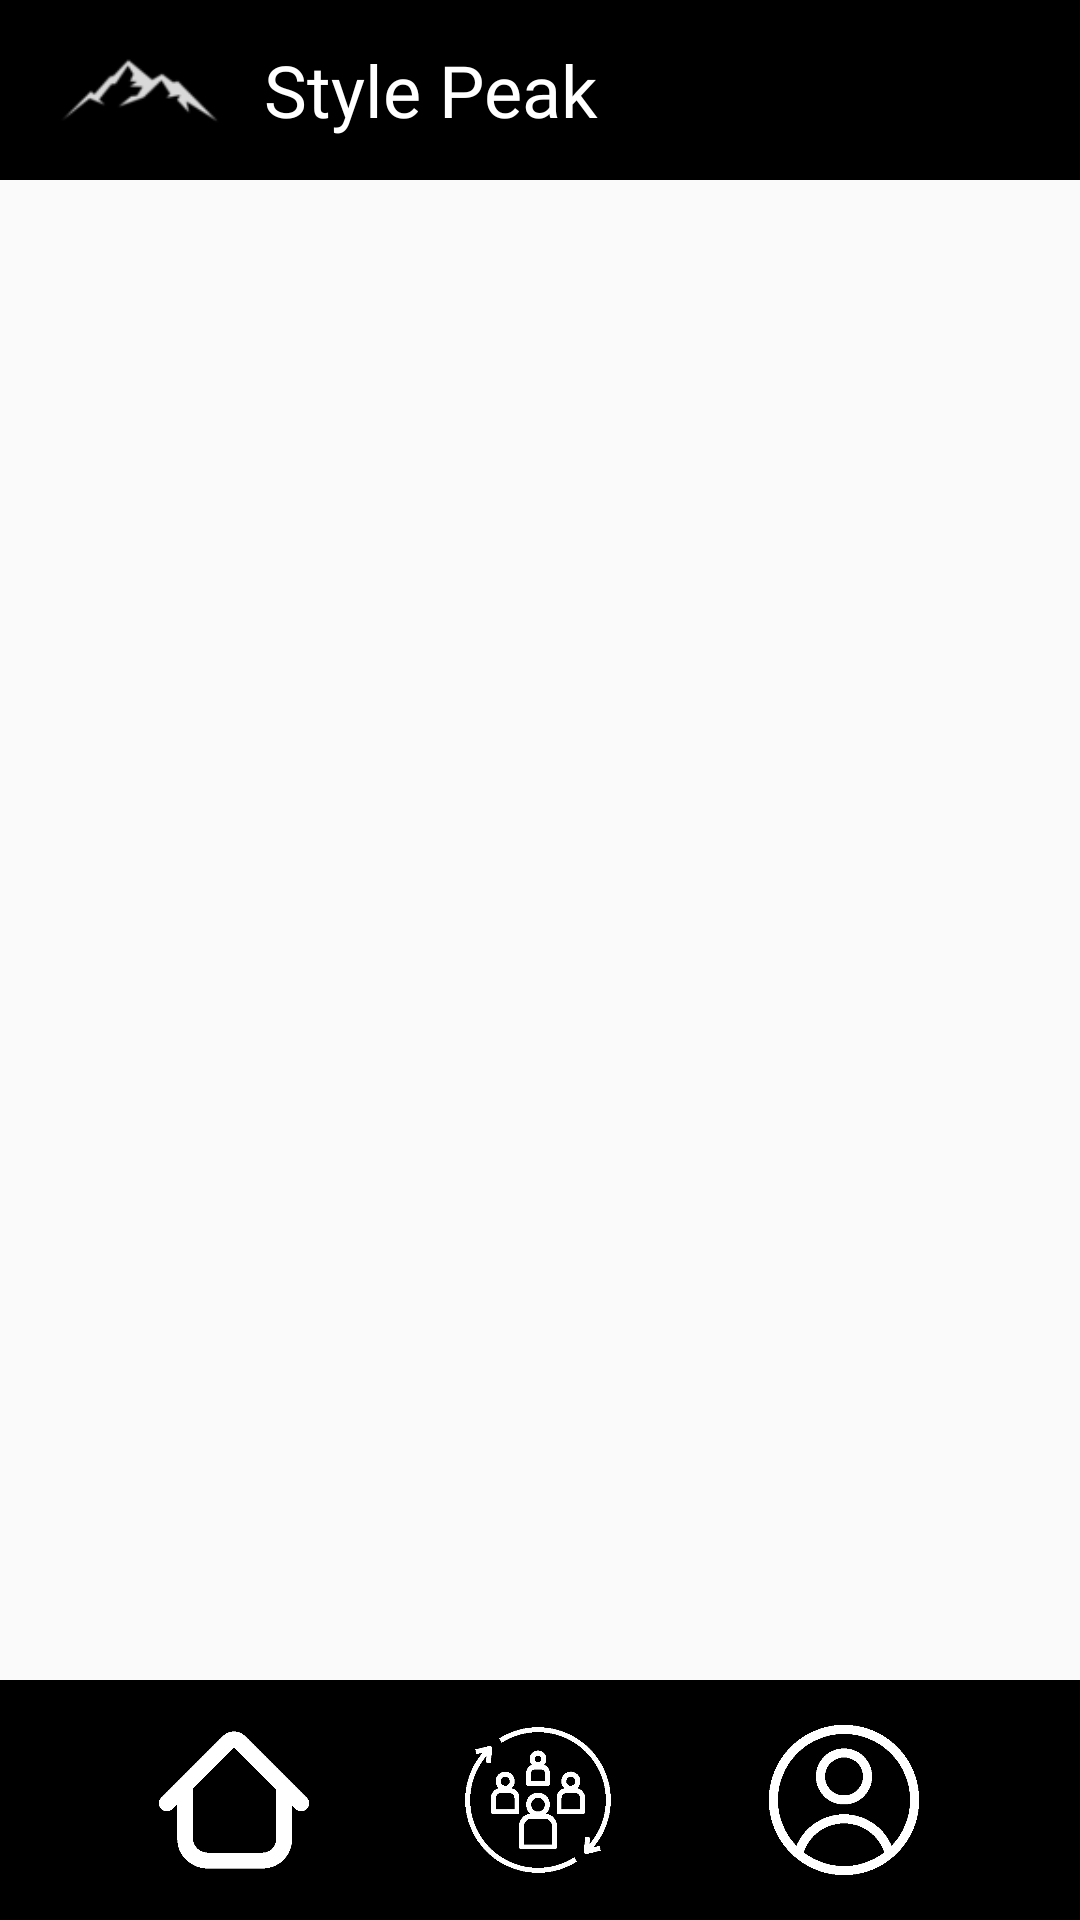

Named icons in this screenshot (1080w x 1920h) and their bounding boxes, (x1, y1, x2, y2):
home menu inferior: (159, 1731, 309, 1869)
social menu inferior: (465, 1727, 611, 1873)
usuario menu inferior: (769, 1725, 919, 1875)
